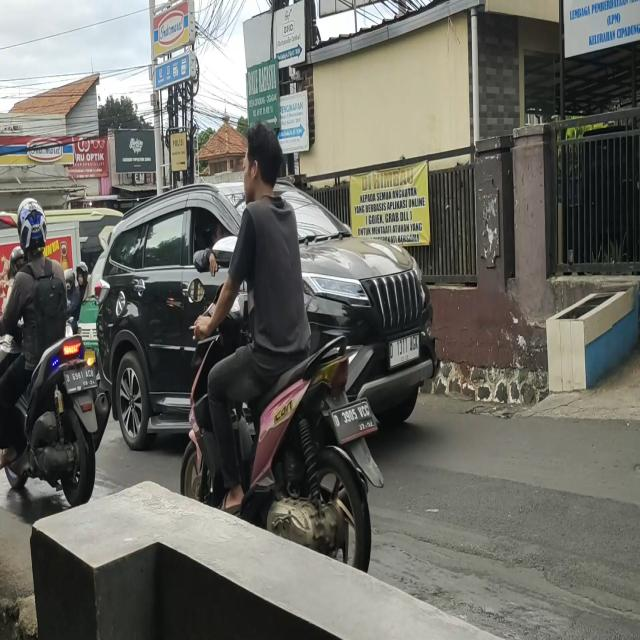helmet: (17, 202, 48, 256)
no-helmet: (243, 126, 283, 200)
